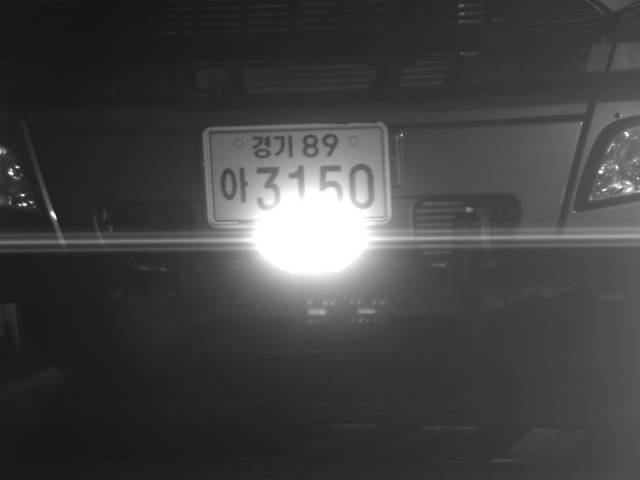car: (1, 1, 639, 338)
plate: (207, 121, 394, 226)
